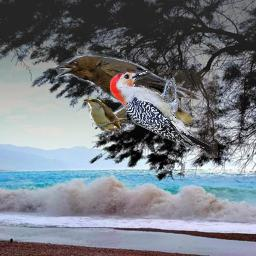Crow: (53, 52, 204, 125)
Cuckoo: (82, 95, 127, 132)
Woodpecker: (110, 70, 218, 158)
